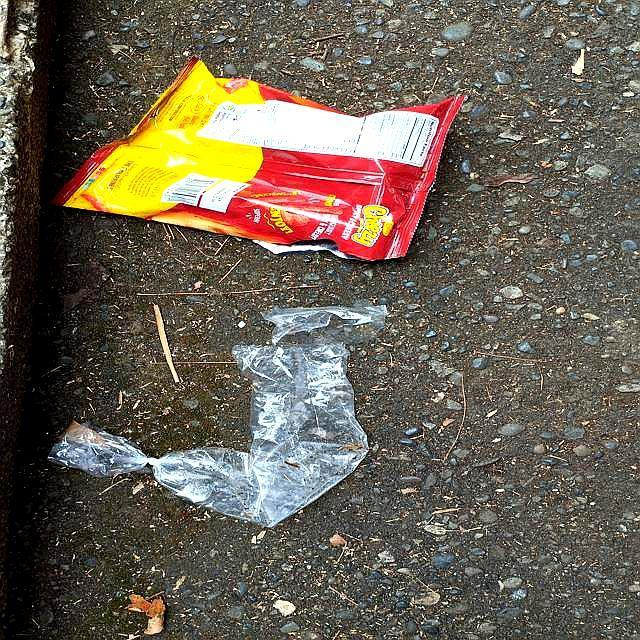Non-biodegradable: (52, 56, 469, 265), (53, 303, 399, 531)
